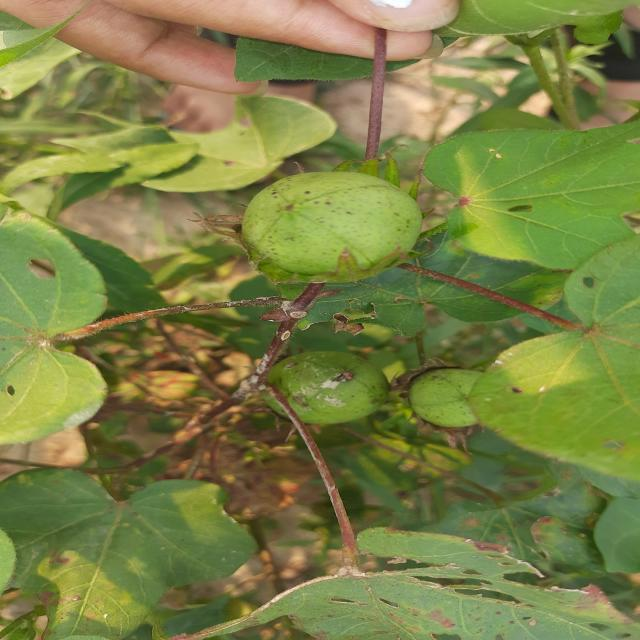Early Boll: (240, 171, 426, 285), (259, 348, 392, 426), (406, 365, 488, 433)
